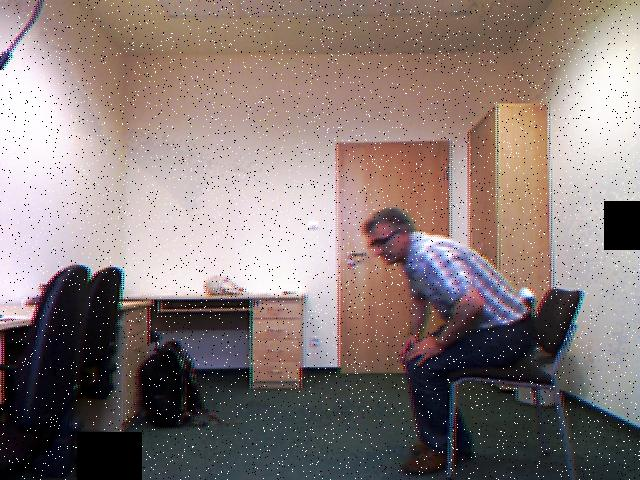sitting: (354, 204, 544, 480)
